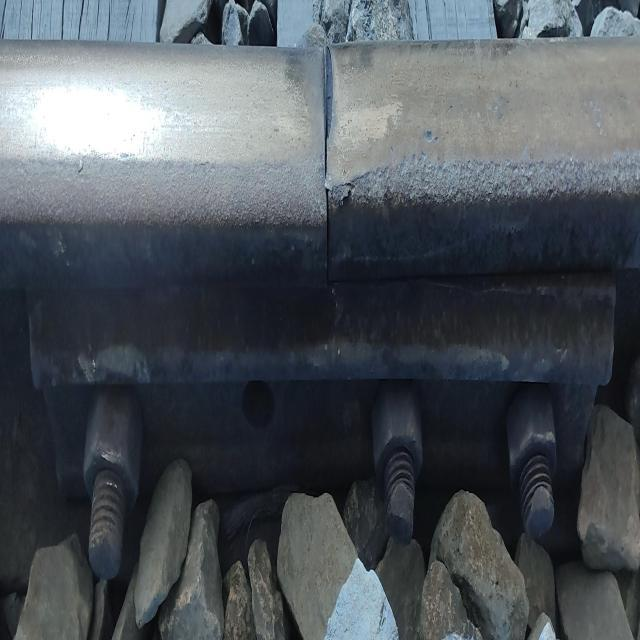Defective Joint: (21, 279, 622, 582)
